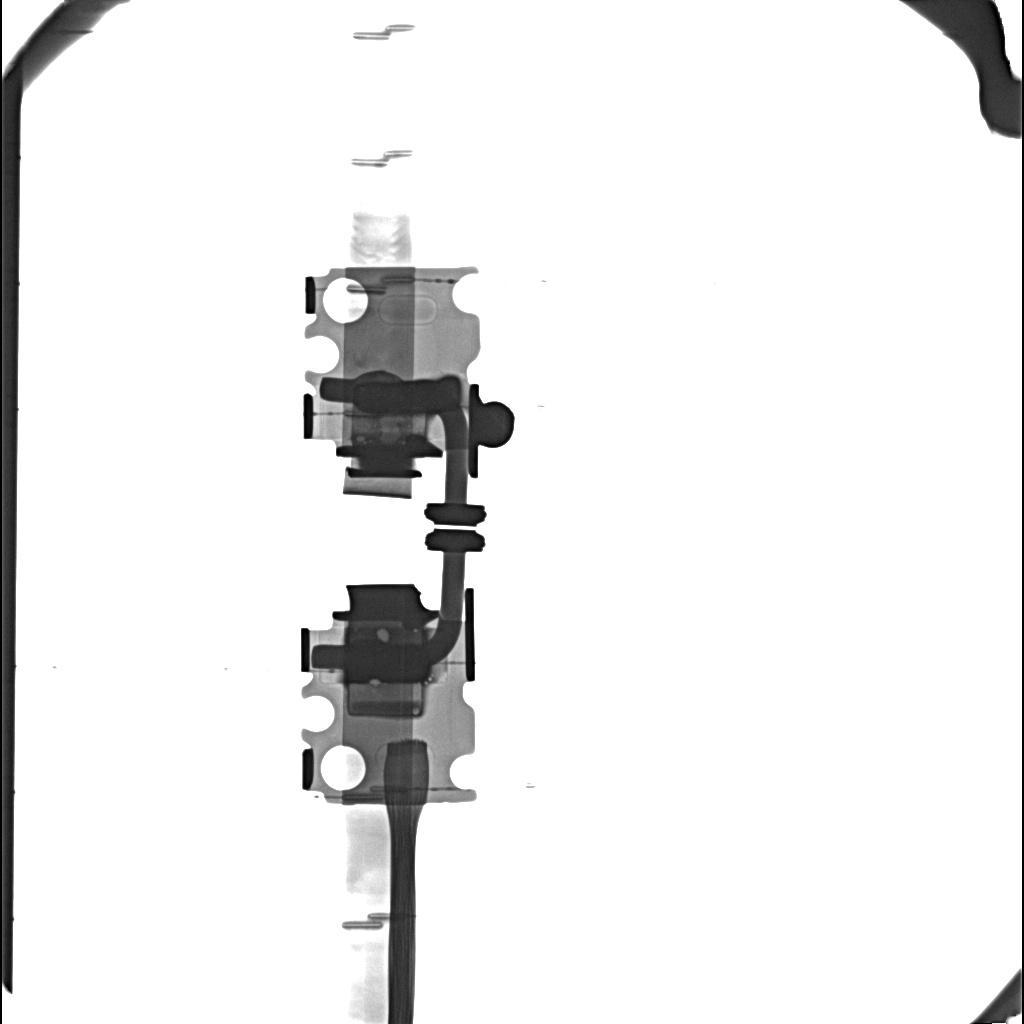PX: (346, 685, 424, 718)
QP: (375, 629, 390, 641)
SX: (355, 378, 460, 415), (344, 645, 428, 683)
